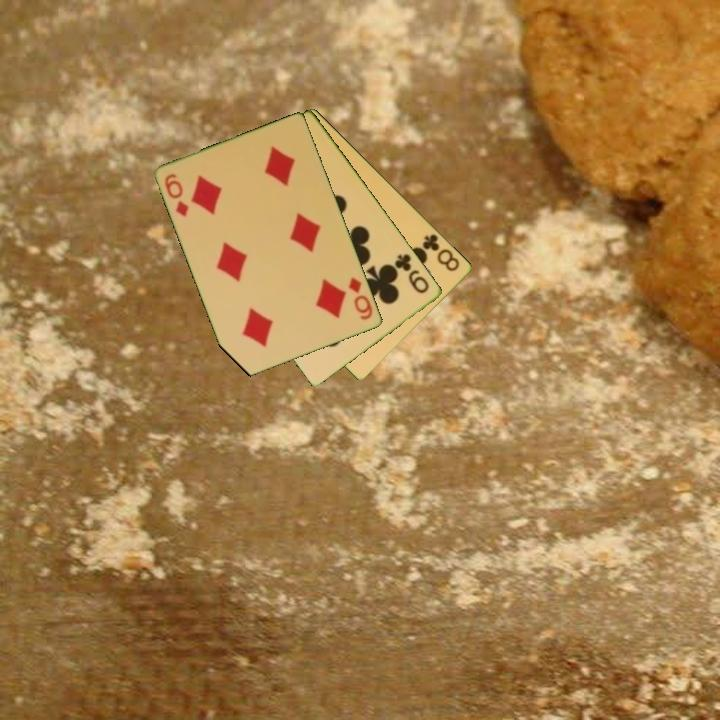6d: (161, 170, 192, 220), (346, 274, 376, 323)
8c: (417, 231, 463, 274)
9c: (391, 250, 433, 297)
